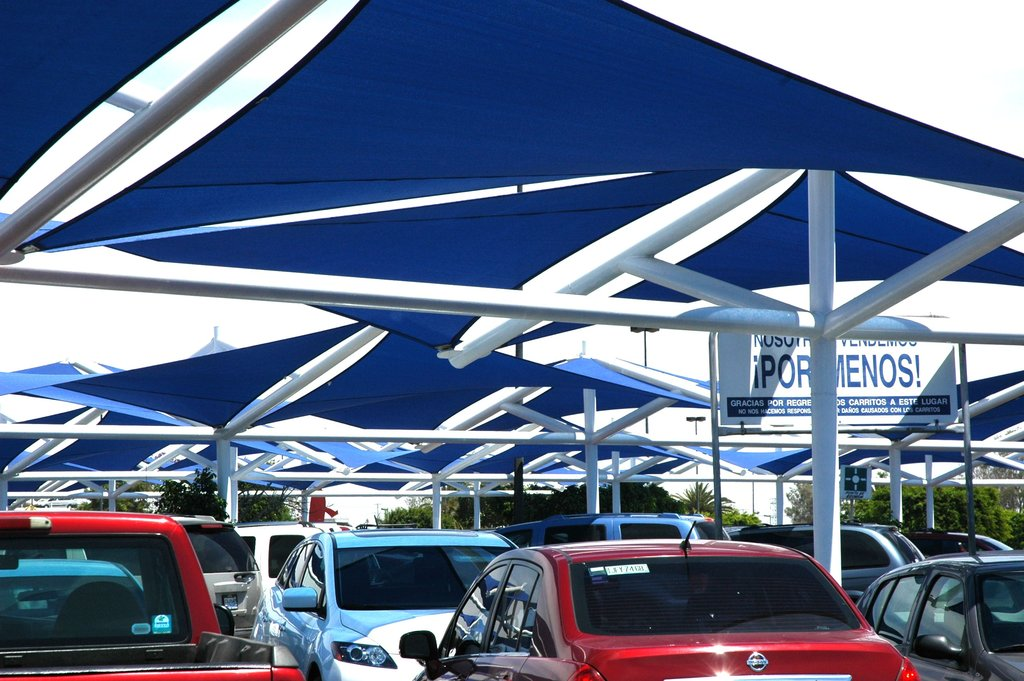Car: (0, 496, 1023, 680)
